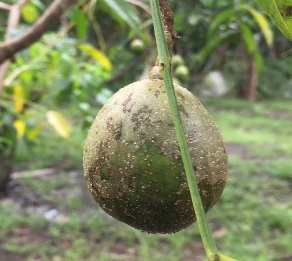Coc: (82, 79, 229, 237)
